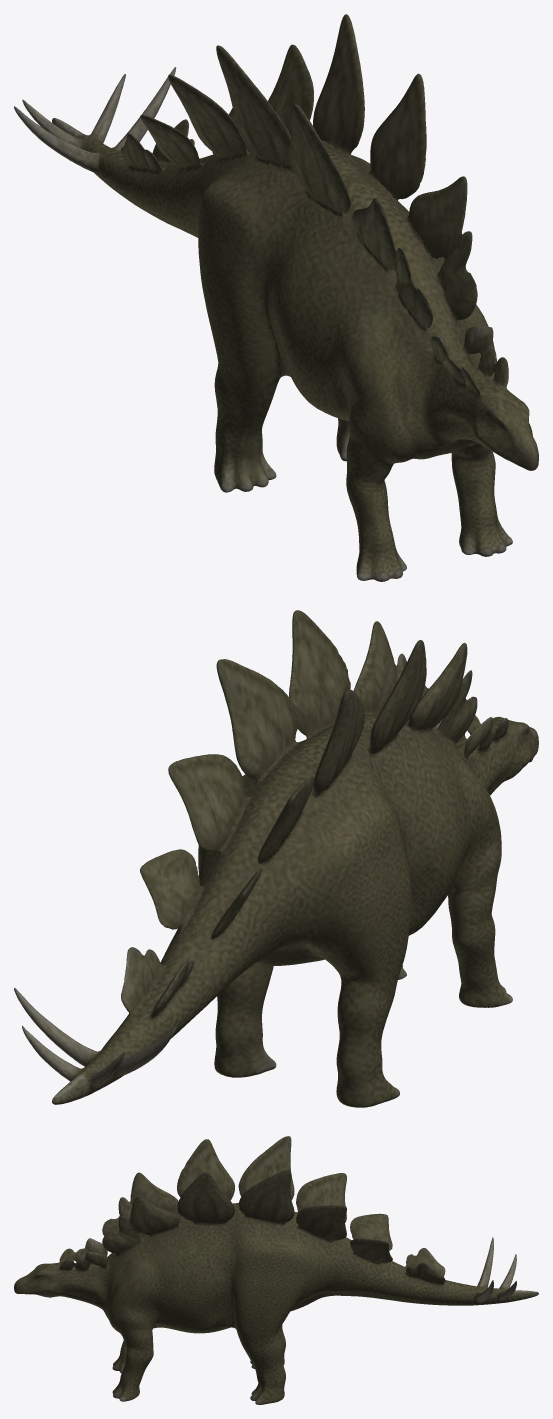
Rendered from Stegosaurus.glb.
The picture shows the model from 3 angles, top to bottom: view 1: azimuth 30°, elevation 25°; view 2: azimuth 150°, elevation 25°; view 3: azimuth 270°, elevation 25°; orthographic projection. The views are drawn at different scales.
Bounding box in the file's own units: 0.4029 × 0.9146 × 1.9.
Materials: 1 (1 with a texture image).
